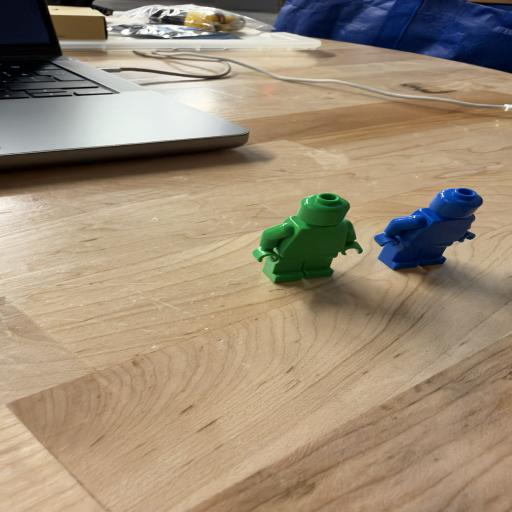blue_minifig: (373, 188, 483, 270)
green_minifig: (252, 193, 364, 283)
